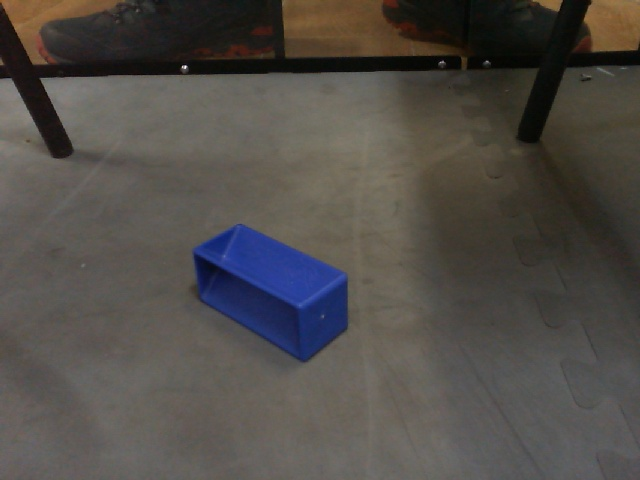BlueSample: (191, 222, 352, 365)
